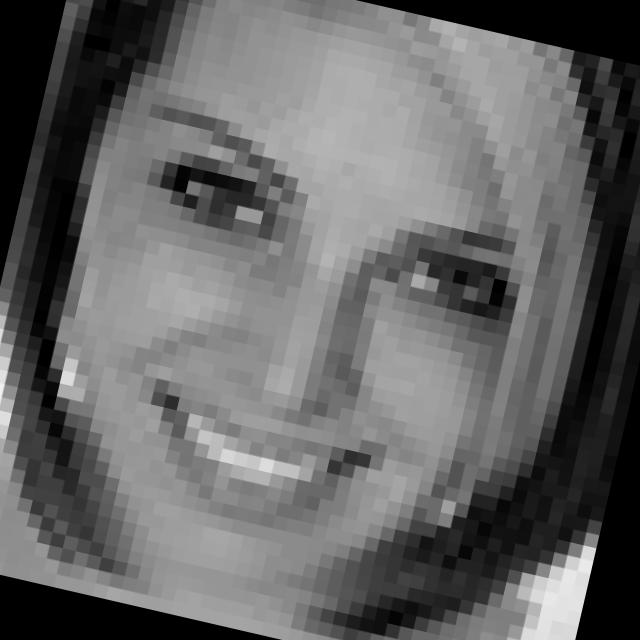happy: (48, 93, 534, 580)
